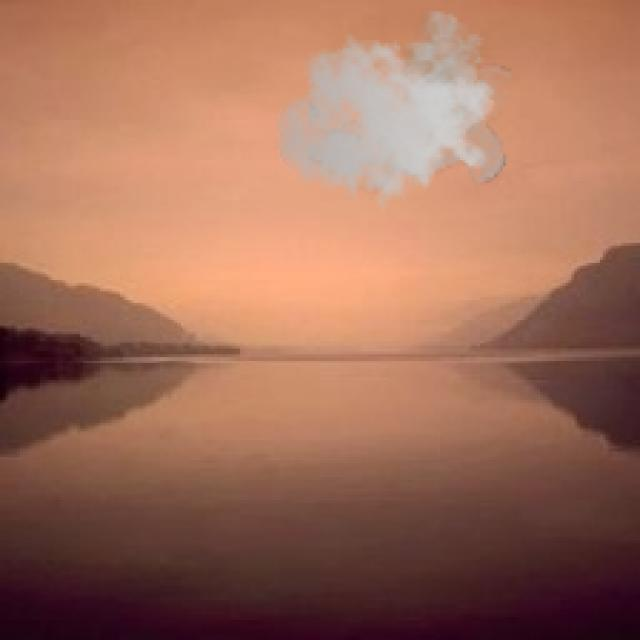smoke: (274, 11, 512, 220)
